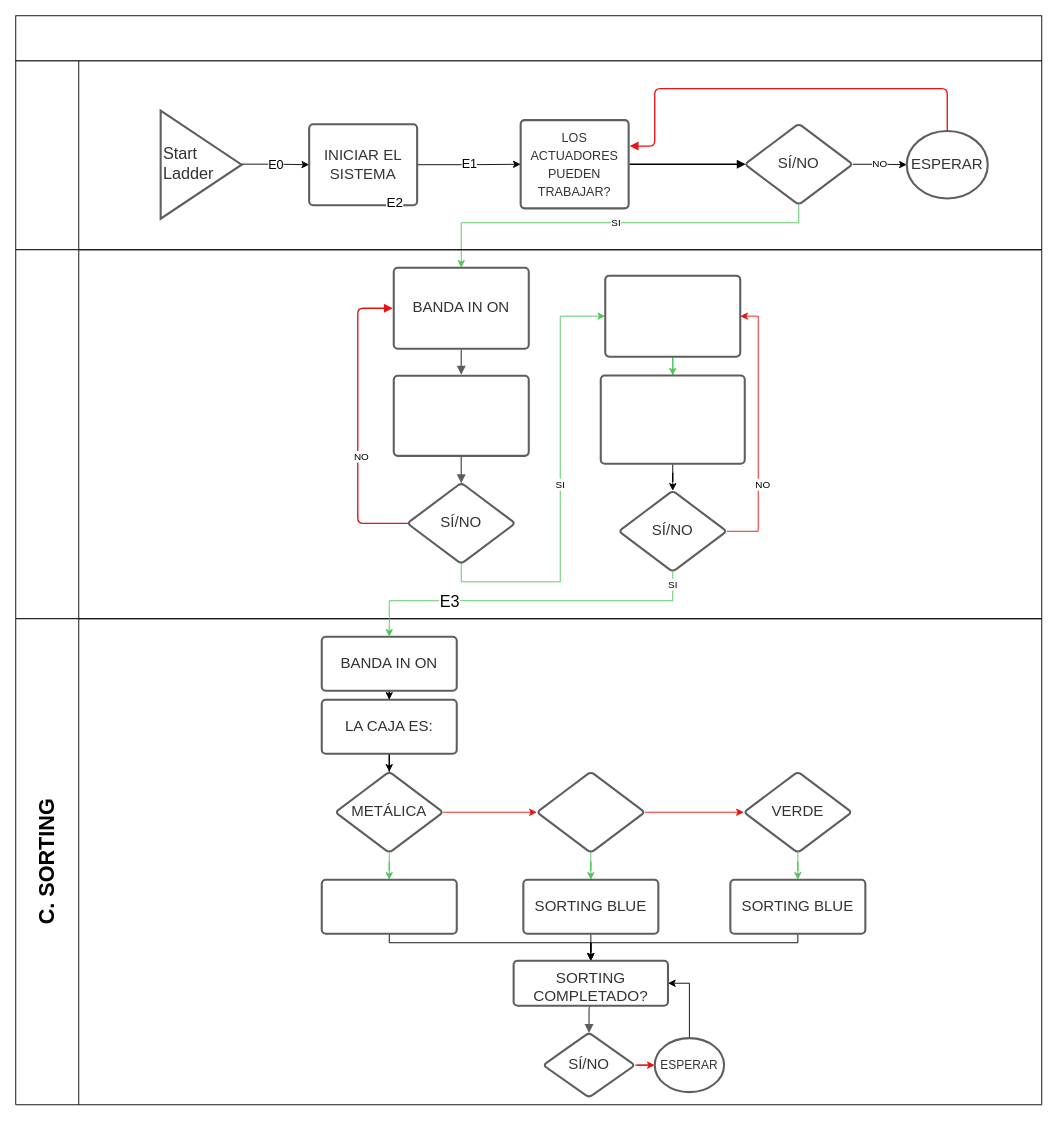
Some shapes in this 1058 by 1121 pixel diagram are drawn without their labels. Here are the shapes that lost their labels. From the top down, the box of each, then its label:
(15, 15, 1042, 61): MAIN PROGRAM
(15, 60, 1042, 250): A. PROCESS SETUP
(604, 274, 741, 357): BANDA IN OFF
(392, 374, 529, 456): SE DETECTÓ UNA CAJA?
(15, 249, 1042, 619): B. POSITIONING
(599, 374, 745, 464): NO SE ESTÁ CATEGORIZANDO UNA CAJA?
(535, 770, 645, 853): AZUL
(320, 878, 457, 934): SORTING METAL
